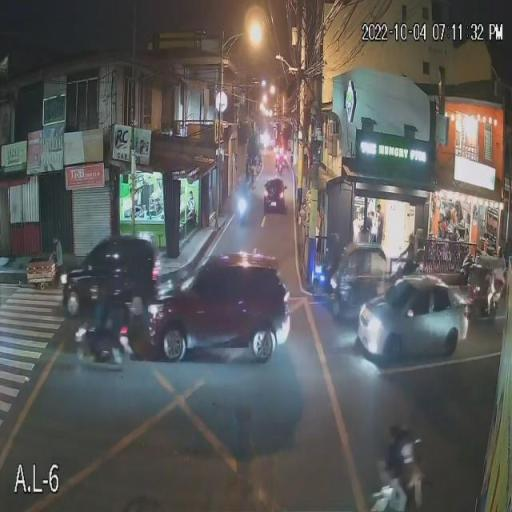helmet: (92, 280, 102, 303)
motorcycle: (74, 327, 130, 373), (231, 200, 255, 220)
rider: (104, 286, 134, 334), (88, 284, 105, 334), (238, 177, 250, 202)
